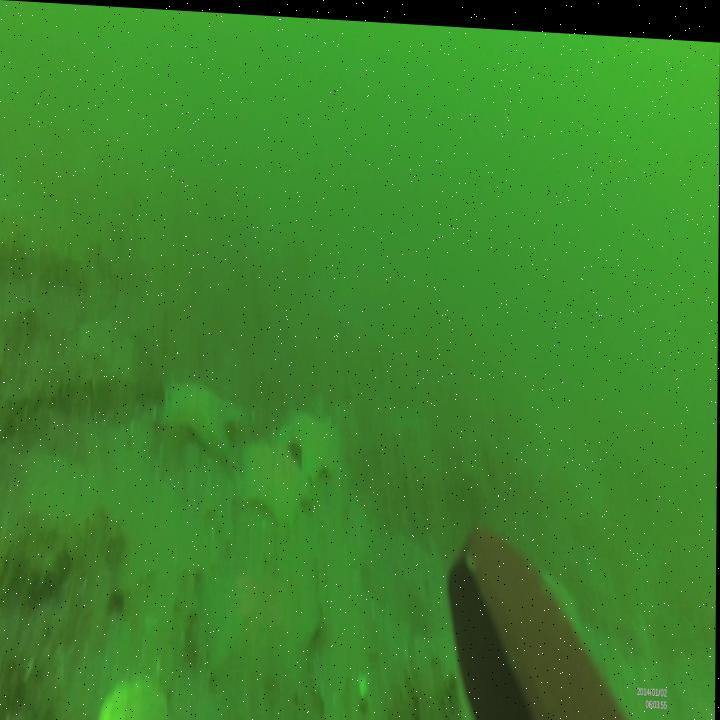starfish: (155, 374, 244, 460), (241, 437, 314, 518), (280, 404, 339, 478)
